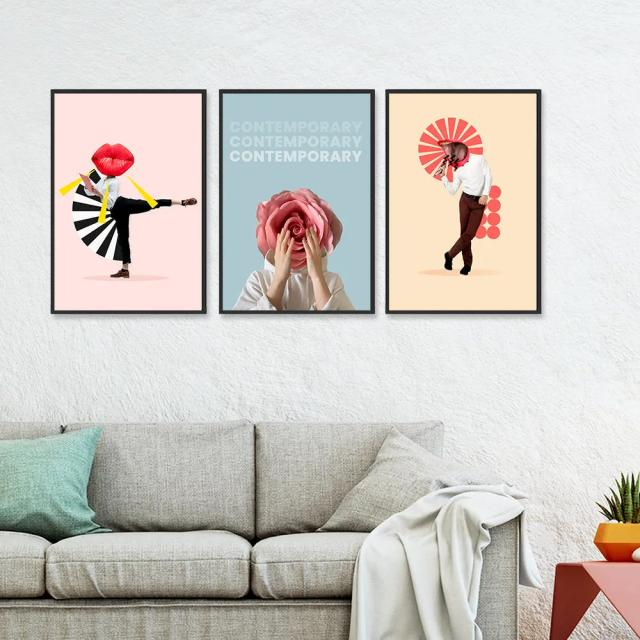painting: (52, 87, 207, 313), (219, 89, 374, 315), (386, 89, 540, 315)
